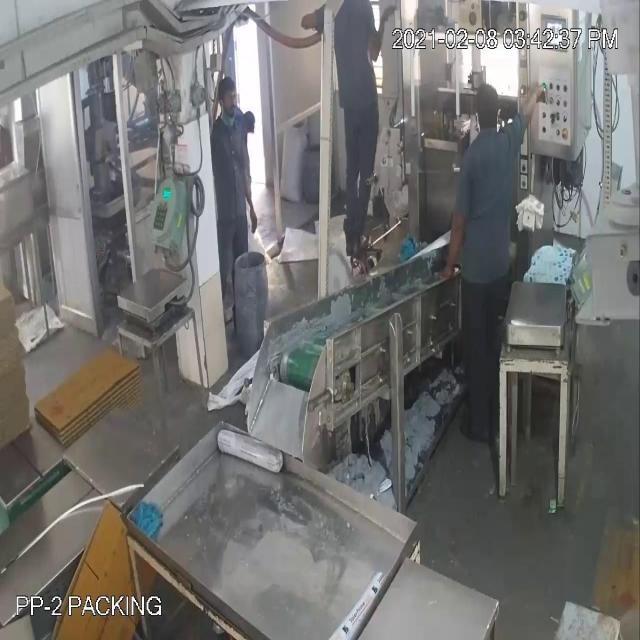No_Gloves: (26, 34, 532, 250)
